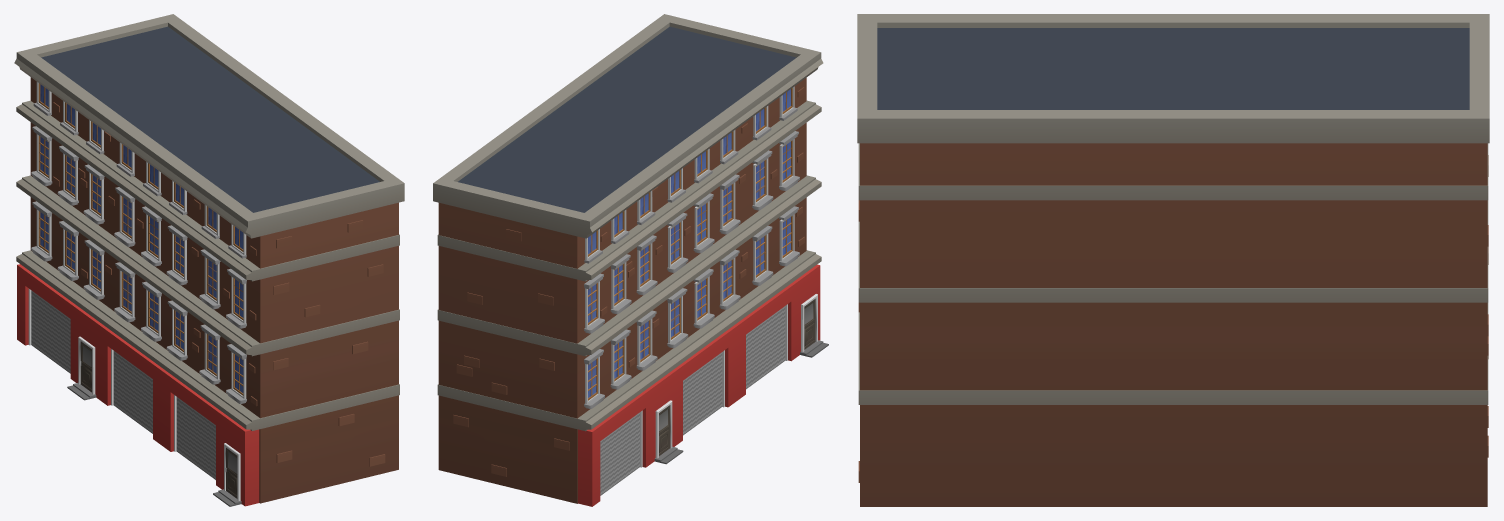
The model's file is Building_20_1_I.glb.
3 views of the same model, side by side, from view 1: azimuth 30°, elevation 25°; view 2: azimuth 150°, elevation 25°; view 3: azimuth 270°, elevation 25° (orthographic). The views are drawn at different scales.
Parts seen in each view (by area): view 1: Building_20_1_I; view 2: Building_20_1_I; view 3: Building_20_1_I.
Boxes of the visible parts, bbox=[...] form: Building_20_1_I: bbox=[14, 14, 404, 506]; Building_20_1_I: bbox=[433, 14, 828, 506]; Building_20_1_I: bbox=[857, 14, 1489, 506].
Bounding box in the file's own units: 7.74 × 12.47 × 18.27.
4 materials, 4 textured.
